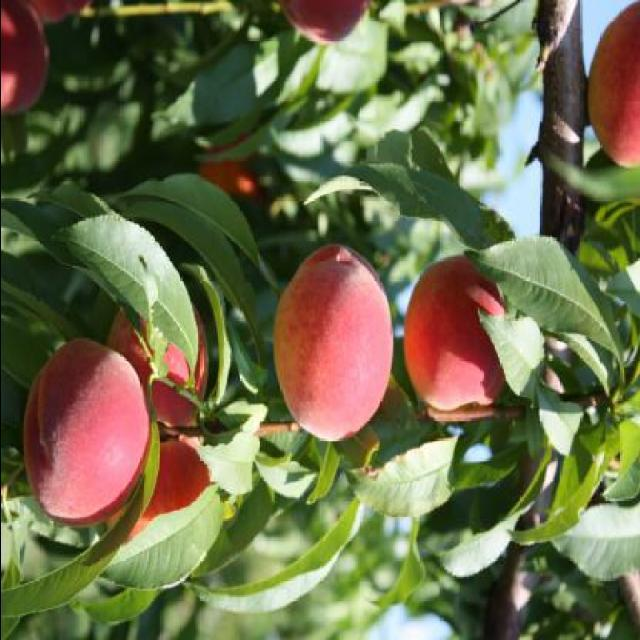Peach: (19, 340, 150, 532), (268, 244, 394, 442), (404, 256, 508, 408), (106, 296, 210, 433), (110, 437, 213, 545), (586, 0, 640, 166), (0, 0, 46, 104), (202, 130, 272, 198), (273, 0, 370, 38), (32, 0, 90, 23)
